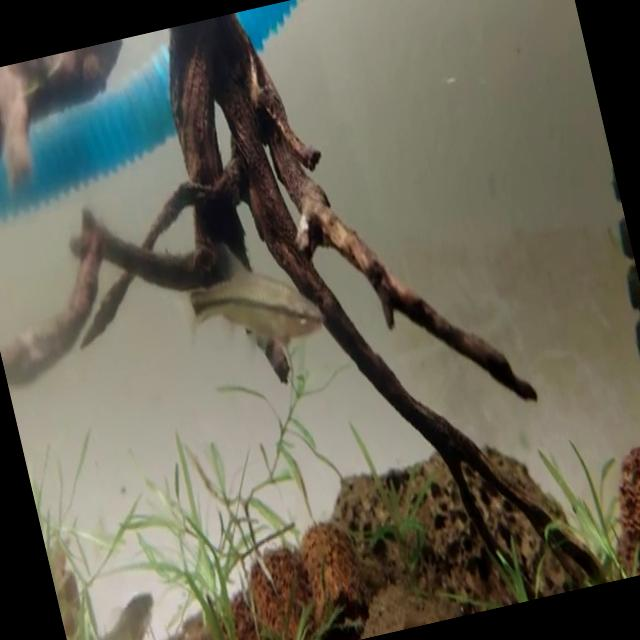Cakil Baligi: (172, 222, 326, 364)
